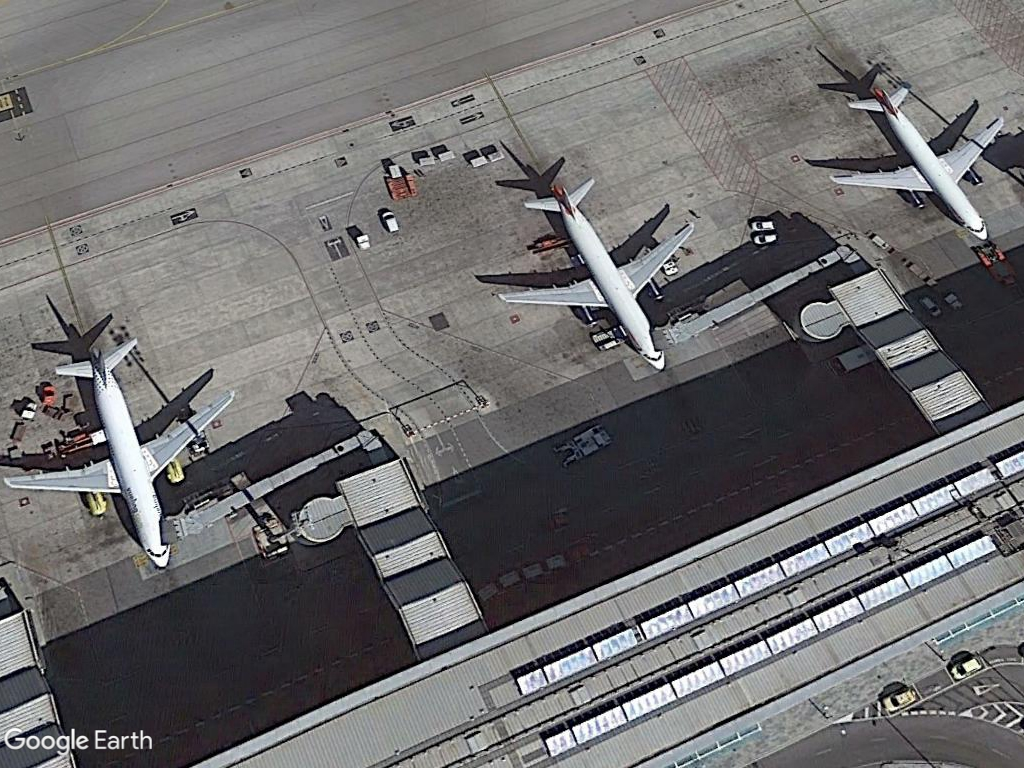airliner: (2, 336, 237, 576), (491, 180, 697, 375), (818, 77, 1007, 242)
pushbacktruck: (547, 421, 618, 474)
